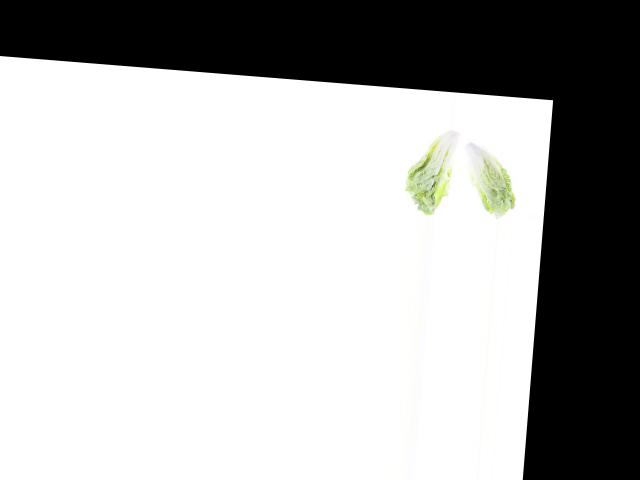lettuce: (459, 132, 522, 218)
